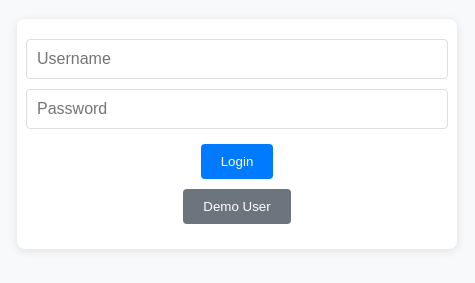
it: LoginPage › handles missing token error
The image size is (475, 283).
Type "johndoe" into the field with placeholder "Username" at (237, 59), box x1=26 y1=39 x2=448 y2=79
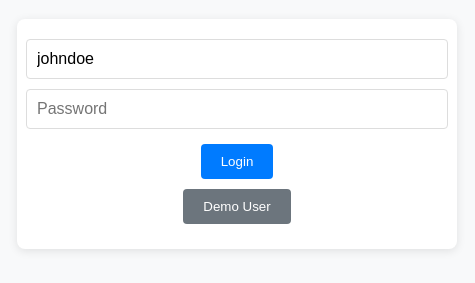
Type "password123" into the password field with placeholder "Password" at (237, 109), box x1=26 y1=89 x2=448 y2=129
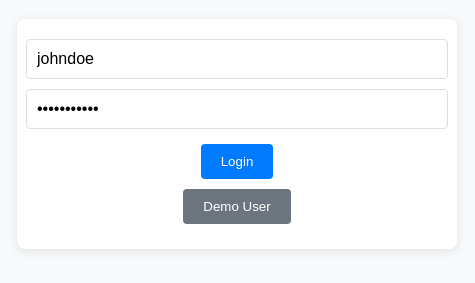
Click the button "Login" at (237, 162), box x1=201 y1=144 x2=273 y2=179
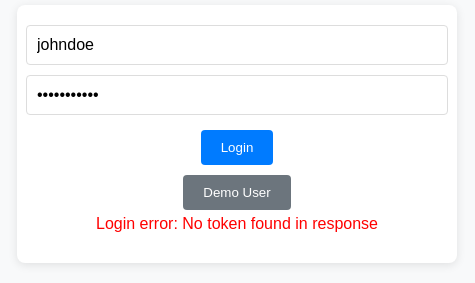
Now the text "Login error: No token found in response" is shown, box x1=96 y1=215 x2=378 y2=233
